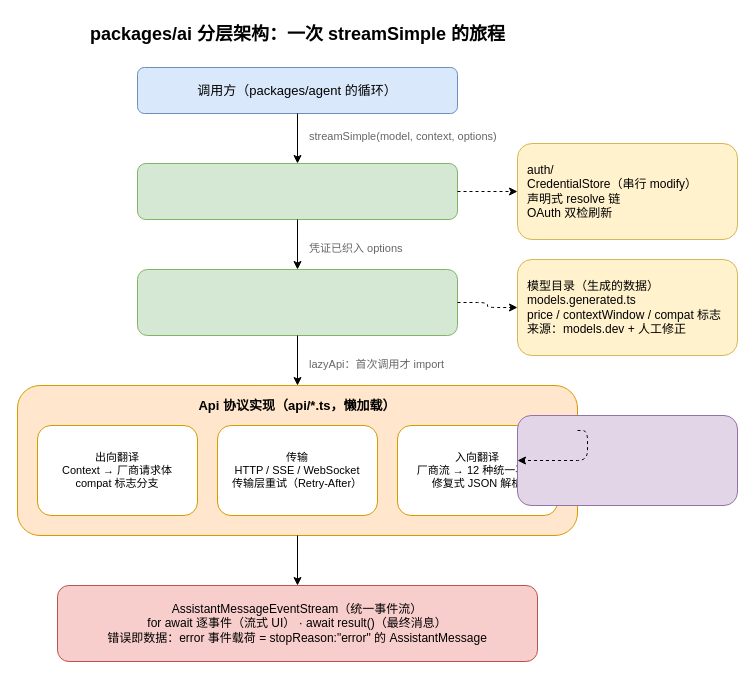
This 755x679 diagram has some shape labels left out. The shapes that lost their labels are listed below. From the top down, each one's centre as x and y in pixels, then its label:
point 297,191: Models（models.ts） 厂商注册表 · 认证解析 · 请求分发
point 297,302: Provider（createProvider 工厂） 模型目录：静态基线 + 动态覆盖 按 model.api 分发协议
point 627,460: 30+ 厂商档案（providers/*.ts） 每份 ≈ 50 行：id · baseUrl · auth · 模型清单 · 协议引用
